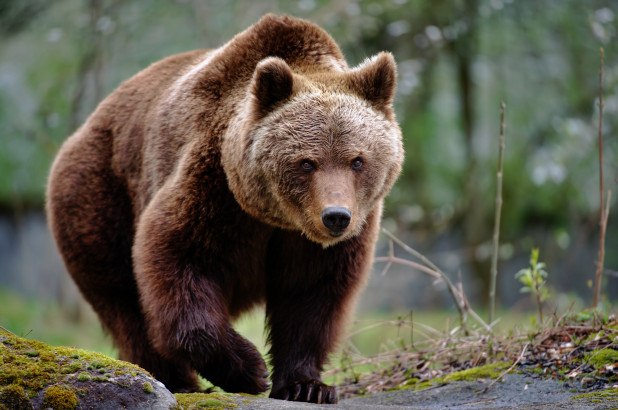bear: (237, 52, 406, 249)
